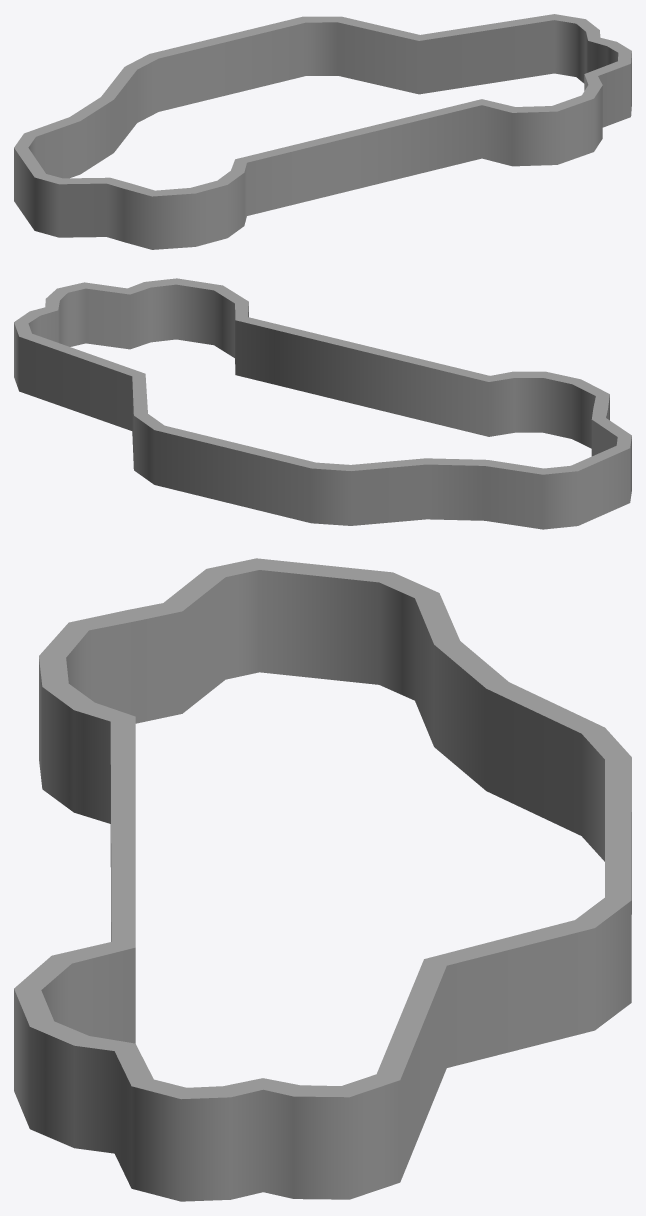
File: BiscuitCutter_Car_01.fbx
3 renders of one model, top to bottom at view 1: azimuth 30°, elevation 25°; view 2: azimuth 150°, elevation 25°; view 3: azimuth 270°, elevation 25°, orthographic. The views are drawn at different scales.
Visible parts, largest first — view 1: BiscuitCutter_Car_01; view 2: BiscuitCutter_Car_01; view 3: BiscuitCutter_Car_01.
Part boxes in pixels (<box>): BiscuitCutter_Car_01: <box>14,14,631,249</box>; BiscuitCutter_Car_01: <box>14,278,631,529</box>; BiscuitCutter_Car_01: <box>14,558,631,1201</box>.
Size of the model in its own units: 0.1444 by 0.0128 by 0.0697.
